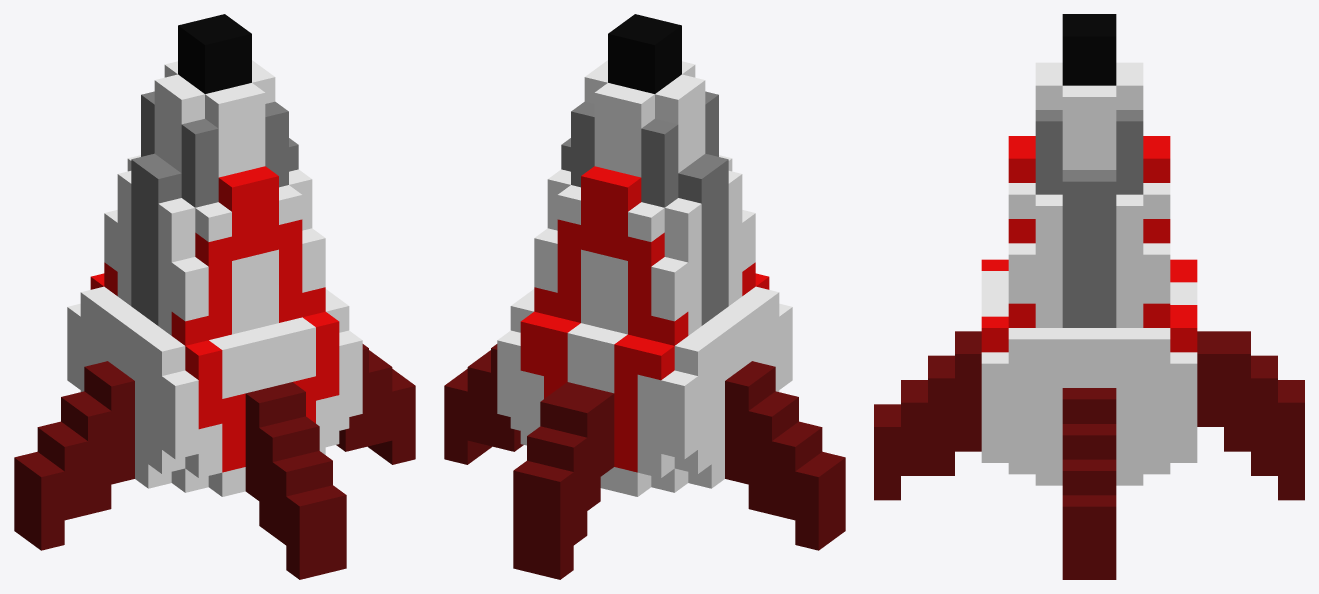
The model's file is missile.obj.
The picture shows the model from 3 angles, left to right: view 1: azimuth 30°, elevation 25°; view 2: azimuth 150°, elevation 25°; view 3: azimuth 270°, elevation 25°; orthographic projection.
Bounding box in the file's own units: 16 × 19 × 16.
1 material, 1 textured.
